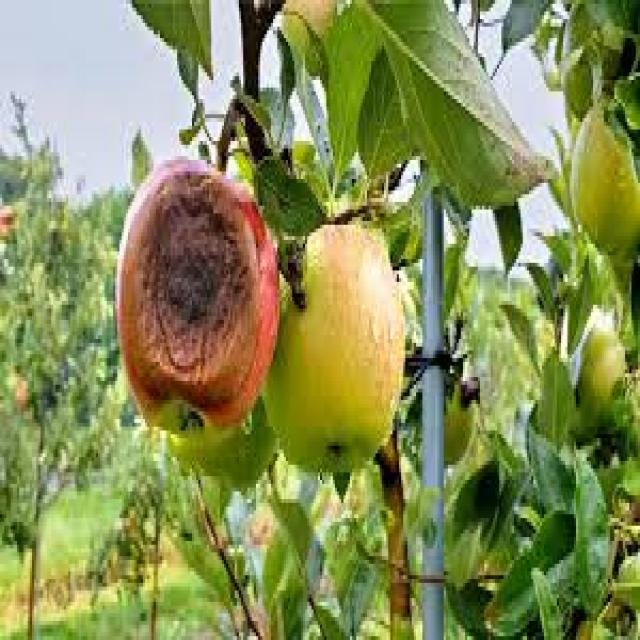Green Juicy Apple: (266, 222, 402, 478), (572, 112, 640, 270)
Rotten Apple: (119, 160, 278, 442)
